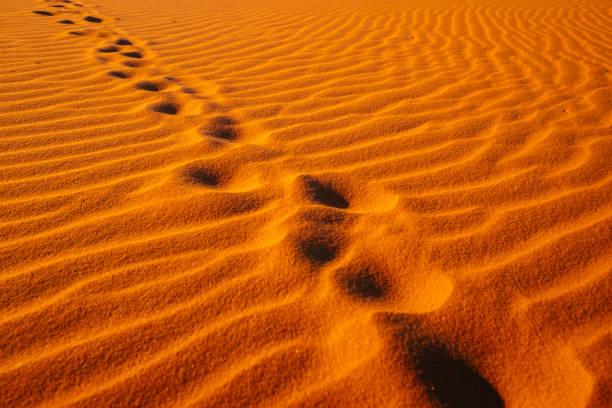animal_footprint: (0, 0, 611, 407), (33, 0, 205, 115), (297, 175, 349, 208), (200, 115, 238, 140), (185, 167, 219, 186), (150, 102, 179, 114), (135, 81, 165, 91), (108, 70, 130, 78), (122, 51, 142, 58), (122, 60, 142, 67), (97, 46, 118, 52), (115, 38, 132, 45), (84, 16, 102, 22), (33, 10, 52, 15), (58, 19, 74, 23), (68, 31, 83, 35), (51, 4, 65, 7)
